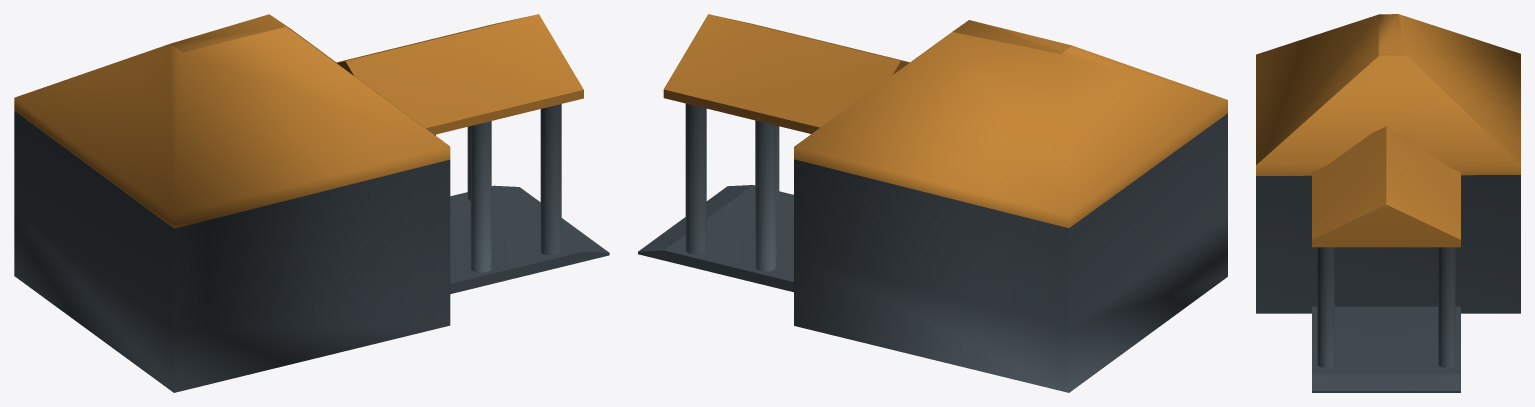
Rendered from ROYAL TUMBA3.fbx.
The picture shows the model from 3 angles, left to right: view 1: azimuth 30°, elevation 25°; view 2: azimuth 150°, elevation 25°; view 3: azimuth 270°, elevation 25°; orthographic projection. The views are drawn at different scales.
Visible parts, largest first — view 1: Cube, Cilindro; view 2: Cube, Cilindro; view 3: Cube, Cilindro.
Part boxes in pixels (bbox=[...]): Cube: bbox=[14, 14, 450, 392]; Cilindro: bbox=[336, 14, 609, 293]; Cube: bbox=[794, 20, 1227, 392]; Cilindro: bbox=[638, 14, 909, 292]; Cube: bbox=[1256, 14, 1520, 313]; Cilindro: bbox=[1312, 126, 1460, 392].
Size of the model in its own units: 1783 by 975 by 1051.
